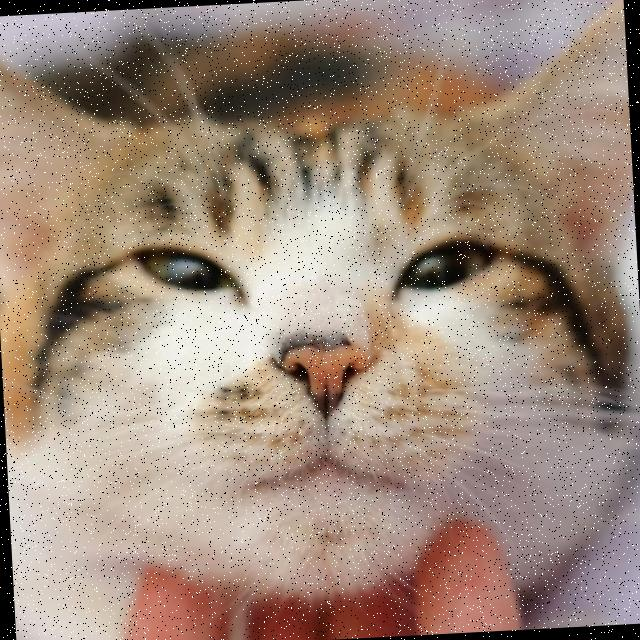Happy: (32, 160, 579, 562)
